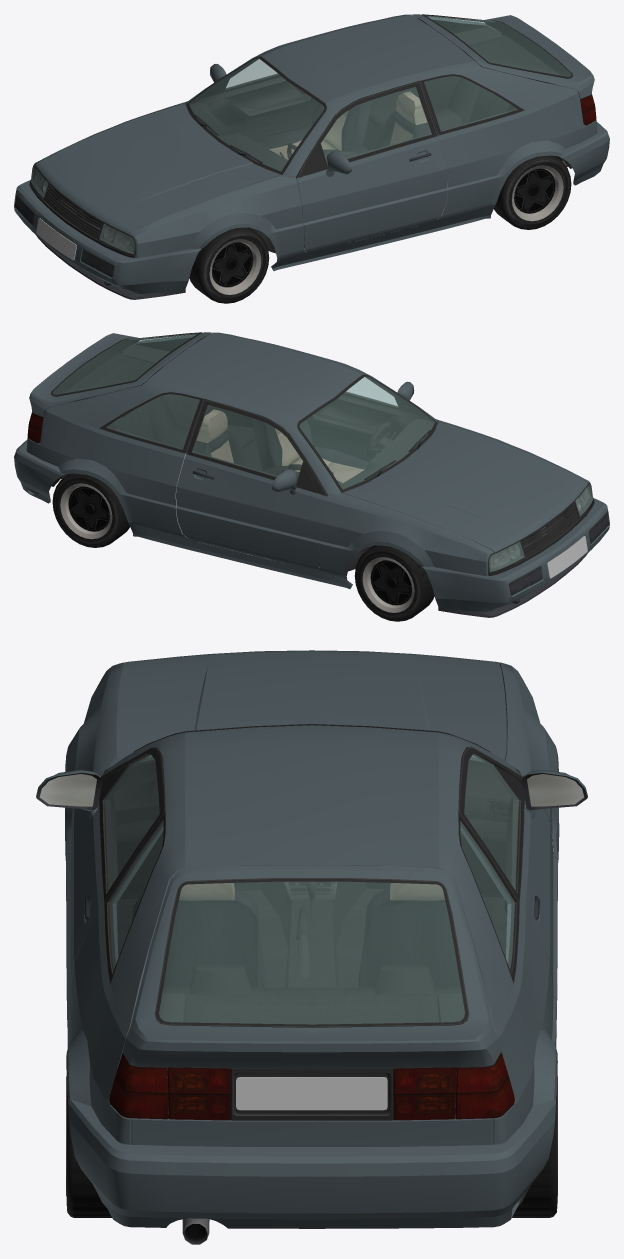
File: CRVR6.fbx
The picture shows the model from 3 angles, top to bottom: view 1: azimuth 30°, elevation 25°; view 2: azimuth 150°, elevation 25°; view 3: azimuth 270°, elevation 25°; orthographic projection. The views are drawn at different scales.
Parts seen in each view (by area): view 1: body, door_left, hood, fender_left, bumper_front, trunk_door, door_right, WHEEL_01, WHEEL_02, bumper_rear, headlight_left, headlight_right; view 2: body, door_right, hood, fender_right, bumper_front, trunk_door, door_left, WHEEL_04, WHEEL_03, bumper_rear, headlight_right, headlight_left; view 3: body, trunk_door, bumper_rear, hood, door_left, door_right, fender_right, fender_left, backlights_left, backlights_right, WHEEL_02, WHEEL_03.
Boxes of the visible parts, <box> form: body: <box>29,14,597,270</box>; door_left: <box>296,81,447,252</box>; hood: <box>36,105,280,234</box>; fender_left: <box>130,175,306,261</box>; bumper_front: <box>14,180,201,299</box>; trunk_door: <box>412,14,594,98</box>; door_right: <box>196,59,317,142</box>; WHEEL_01: <box>189,227,269,303</box>; WHEEL_02: <box>494,155,571,229</box>; bumper_rear: <box>560,122,609,185</box>; headlight_left: <box>97,222,135,254</box>; headlight_right: <box>30,165,54,200</box>; body: <box>26,332,594,588</box>; door_right: <box>176,399,327,570</box>; hood: <box>343,423,587,552</box>; fender_right: <box>317,493,493,579</box>; bumper_front: <box>422,498,609,617</box>; trunk_door: <box>29,332,211,416</box>; door_left: <box>306,377,427,462</box>; WHEEL_04: <box>354,545,434,621</box>; WHEEL_03: <box>52,473,129,547</box>; bumper_rear: <box>14,440,63,503</box>; headlight_right: <box>488,540,526,572</box>; headlight_left: <box>569,483,593,518</box>; body: <box>66,724,557,1244</box>; trunk_door: <box>123,865,501,1120</box>; bumper_rear: <box>68,1097,555,1228</box>; hood: <box>117,650,506,760</box>; door_left: <box>36,747,165,1019</box>; door_right: <box>458,747,587,1019</box>; fender_right: <box>499,662,559,865</box>; fender_left: <box>65,662,124,863</box>; backlights_left: <box>109,1052,168,1119</box>; backlights_right: <box>455,1052,514,1119</box>; WHEEL_02: <box>66,1076,111,1217</box>; WHEEL_03: <box>512,1076,557,1217</box>.
Bounding box in the file's own units: 160 × 74.54 × 47.46.
